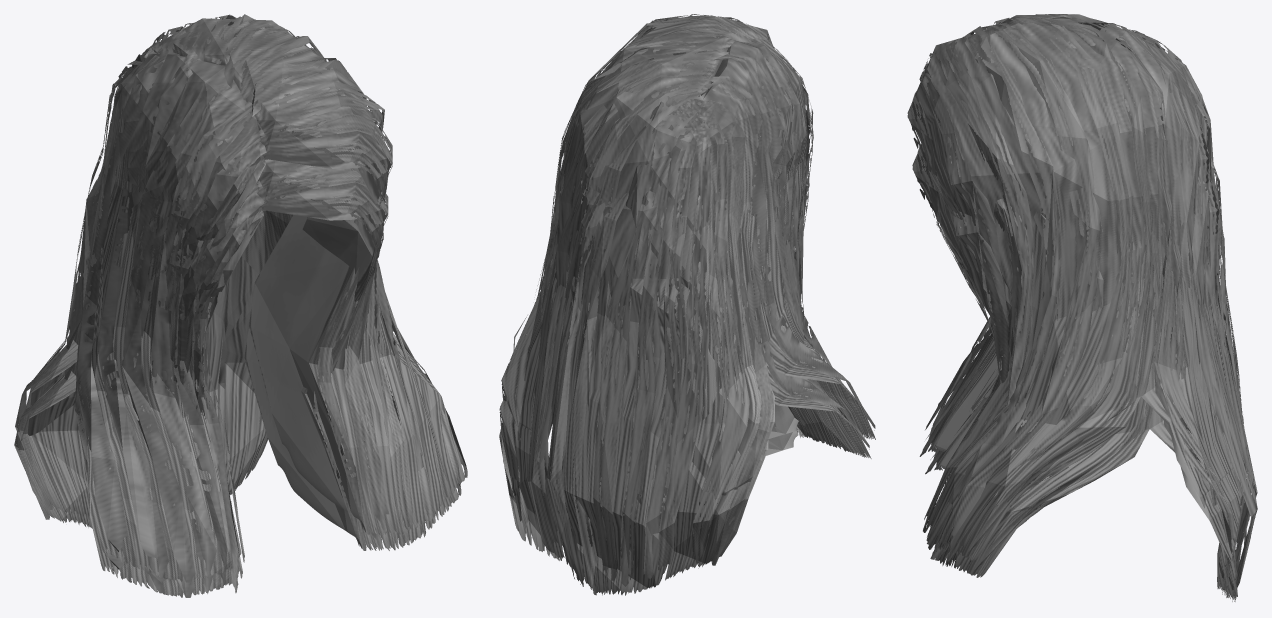
Rendered from haar_mh01.glb.
3 views of the same model, side by side, from view 1: azimuth 30°, elevation 25°; view 2: azimuth 150°, elevation 25°; view 3: azimuth 270°, elevation 25° (orthographic). The views are drawn at different scales.
Parts seen in each view (by area): view 1: Haar_MH01_M, Haar_MH01_W; view 2: Haar_MH01_M, Haar_MH01_W; view 3: Haar_MH01_M, Haar_MH01_W.
Boxes of the visible parts, x1,y1,x2,y2 form: Haar_MH01_M: (15,14,467,582); Haar_MH01_W: (14,145,461,597); Haar_MH01_M: (501,14,875,575); Haar_MH01_W: (499,155,871,595); Haar_MH01_M: (907,14,1246,595); Haar_MH01_W: (912,143,1257,601).
Size of the model in its own units: 0.3037 by 0.4709 by 0.2623.
Materials: 1 (1 with a texture image).
